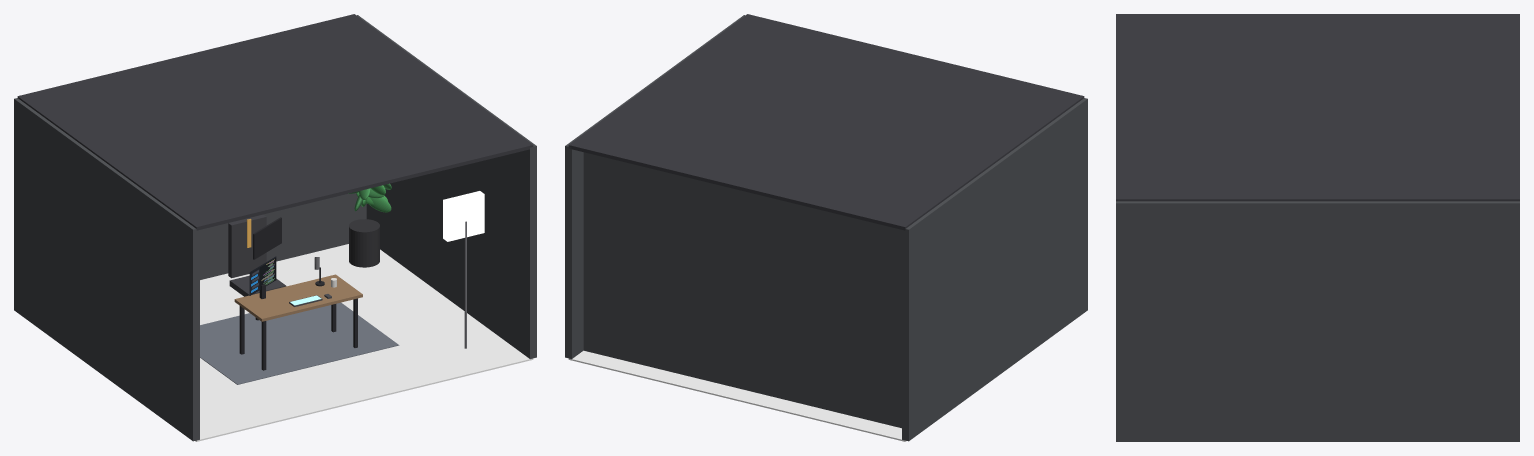
Rendered from studio.glb.
The picture shows the model from 3 angles, left to right: view 1: azimuth 30°, elevation 25°; view 2: azimuth 150°, elevation 25°; view 3: azimuth 270°, elevation 25°; orthographic projection. The views are drawn at different scales.
Parts seen in each view (by area): view 1: Ceiling, LeftWall, Floor, RightWall, Rug, BackWall, DeskTop, Softbox, ChairBack, PlantPot, Monitor, MonitorScreen; view 2: BackWall, Ceiling, LeftWall, Floor, RightWall; view 3: RightWall, Ceiling.
Part boxes in pixels (x1=…): Ceiling: x1=17, y1=14, x2=533, y2=230; LeftWall: x1=14, y1=98, x2=199, y2=441; Floor: x1=195, y1=244, x2=533, y2=441; RightWall: x1=357, y1=15, x2=536, y2=358; Rug: x1=200, y1=302, x2=399, y2=384; BackWall: x1=200, y1=193, x2=366, y2=279; DeskTop: x1=234, y1=274, x2=362, y2=321; Softbox: x1=443, y1=191, x2=484, y2=241; ChairBack: x1=228, y1=214, x2=266, y2=278; PlantPot: x1=349, y1=219, x2=379, y2=267; Monitor: x1=253, y1=217, x2=281, y2=259; MonitorScreen: x1=249, y1=256, x2=276, y2=295; BackWall: x1=583, y1=152, x2=901, y2=428; Ceiling: x1=568, y1=14, x2=1084, y2=230; LeftWall: x1=902, y1=98, x2=1087, y2=441; Floor: x1=568, y1=350, x2=906, y2=441; RightWall: x1=565, y1=15, x2=744, y2=358; RightWall: x1=1116, y1=201, x2=1519, y2=441; Ceiling: x1=1116, y1=14, x2=1519, y2=201.
Size of the model in its own units: 5.1 by 3.05 by 4.6.
Materials: 125 (2 with a texture image).
